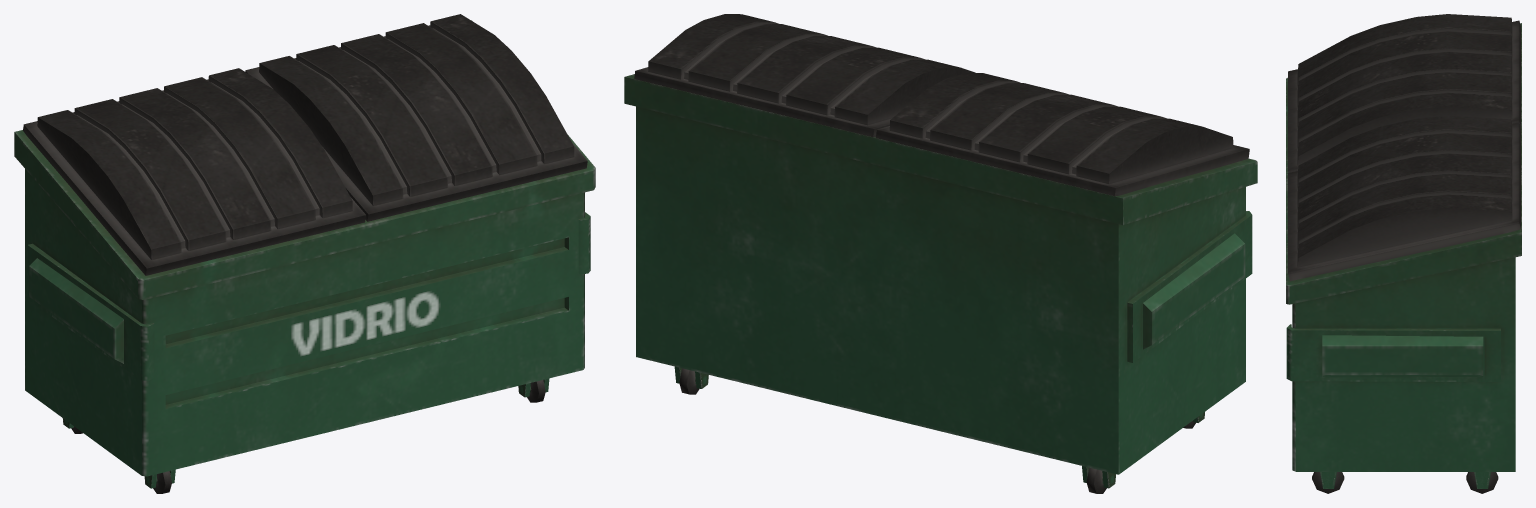
Rendered from TrashContainer.fbx.
3 renders of one model, left to right at view 1: azimuth 30°, elevation 25°; view 2: azimuth 150°, elevation 25°; view 3: azimuth 270°, elevation 25°, orthographic. The views are drawn at different scales.
Visible parts, largest first — view 1: Body, TapaIzq, TapaDer; view 2: Body, TapaIzq, TapaDer; view 3: Body, TapaDer, TapaIzq.
Part boxes in pixels (bbox=[...]): Body: bbox=[14, 20, 595, 493]; TapaIzq: bbox=[23, 68, 365, 275]; TapaDer: bbox=[245, 14, 587, 221]; Body: bbox=[624, 74, 1257, 493]; TapaIzq: bbox=[875, 73, 1249, 196]; TapaDer: bbox=[634, 14, 975, 137]; Body: bbox=[1286, 23, 1521, 493]; TapaDer: bbox=[1288, 115, 1520, 281]; TapaIzq: bbox=[1288, 14, 1520, 172].
Bounding box in the file's own units: 3018 × 1931 × 1397.
Materials: 1 (1 with a texture image).
